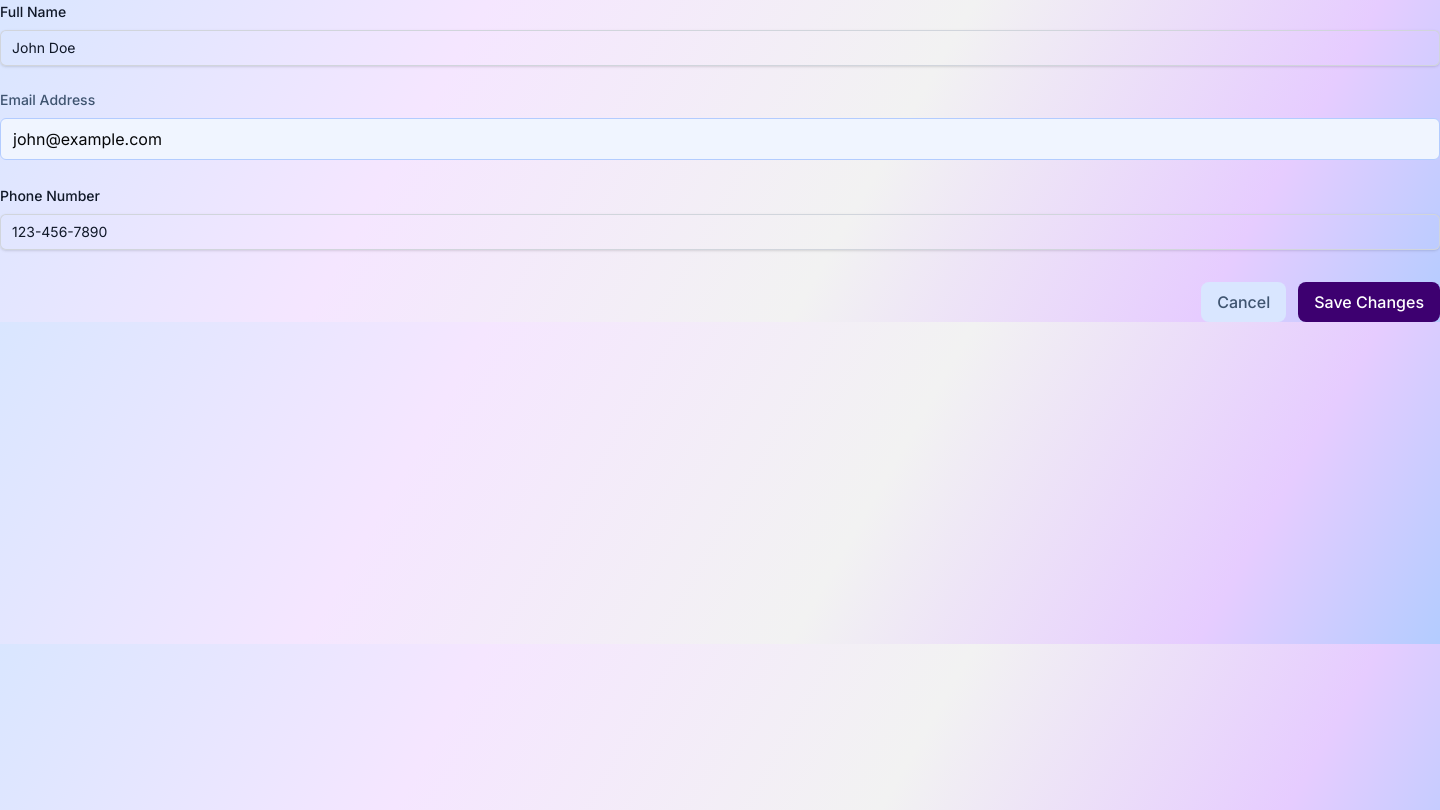
Test case: ProfileInformation › handles input changes correctly
Note: Test name change
Replace the text in the field with placeholder "Enter your full name" below "Full Name" with "New Name": point(720, 48) [0,30,1439,66]
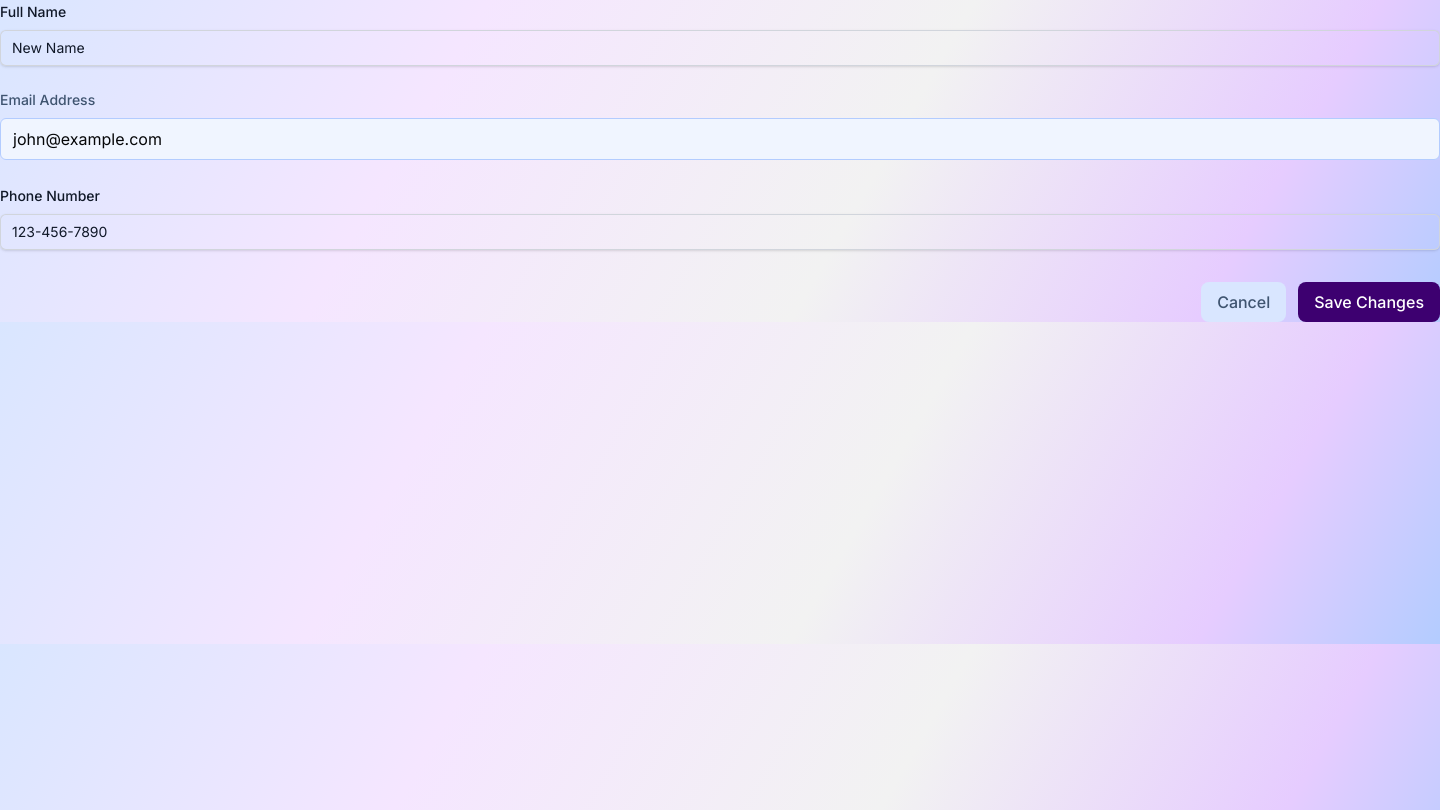
Note: Test phone number change
Replace the text in the field with placeholder "Enter phone number" below "Phone Number" with "987-654-3210": point(720, 232) [0,214,1439,250]
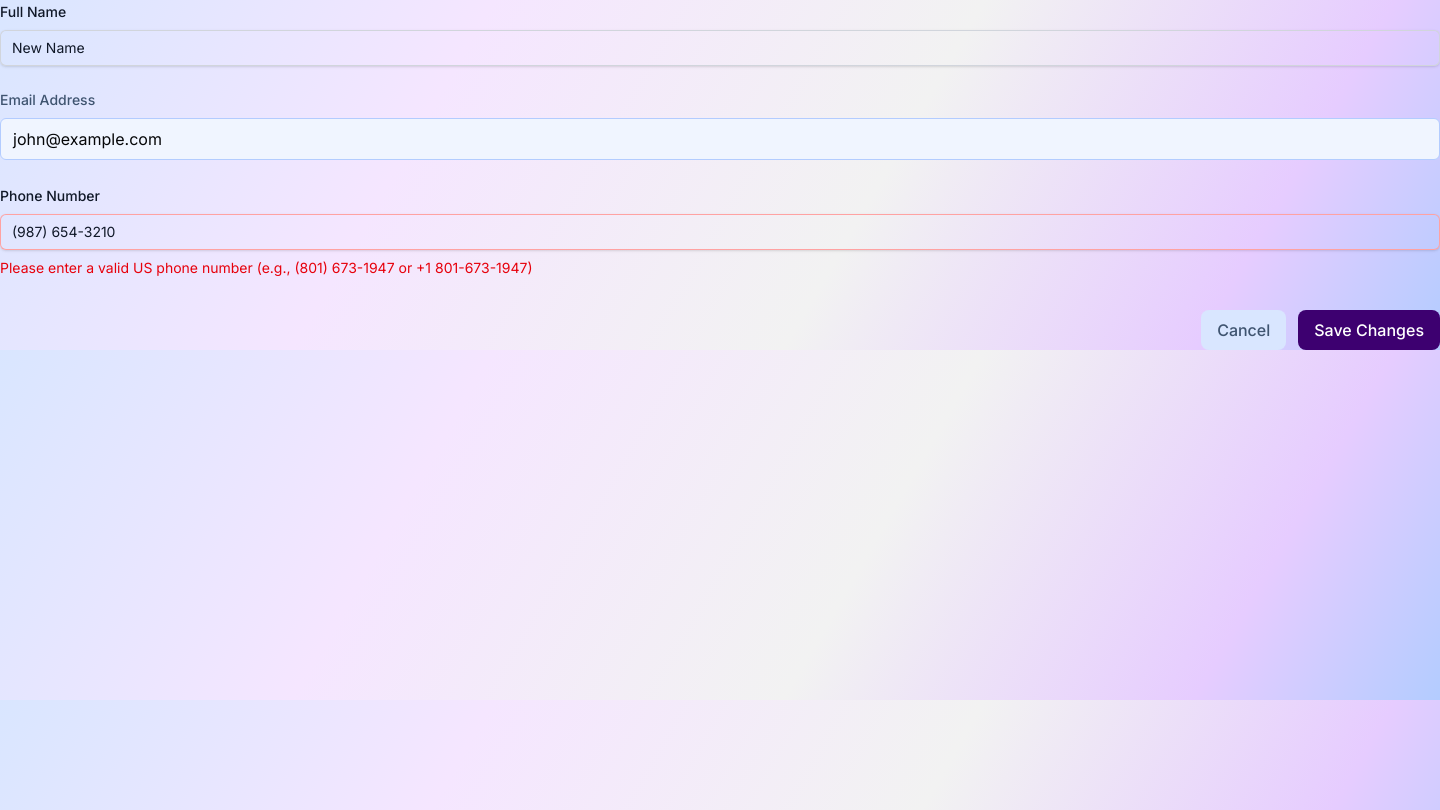
expect the 2nd field with placeholder "Enter phone number" holds "(987) 654-3210": met, box [0,214,1439,250]
